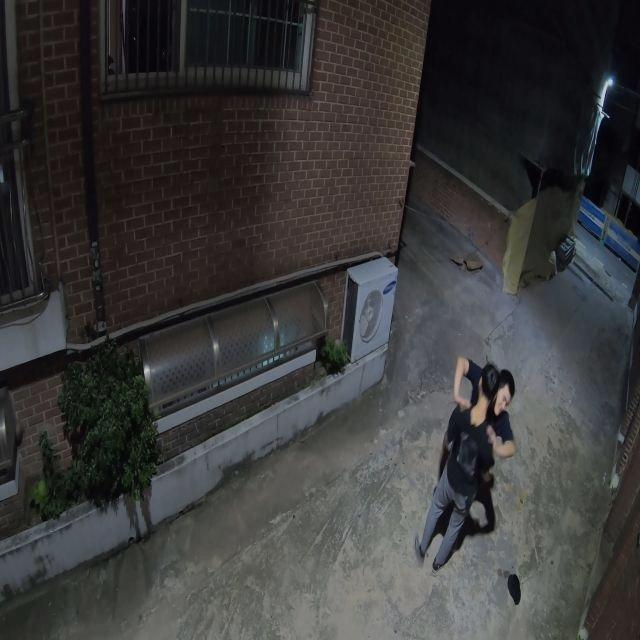fight: (415, 354, 522, 574)
